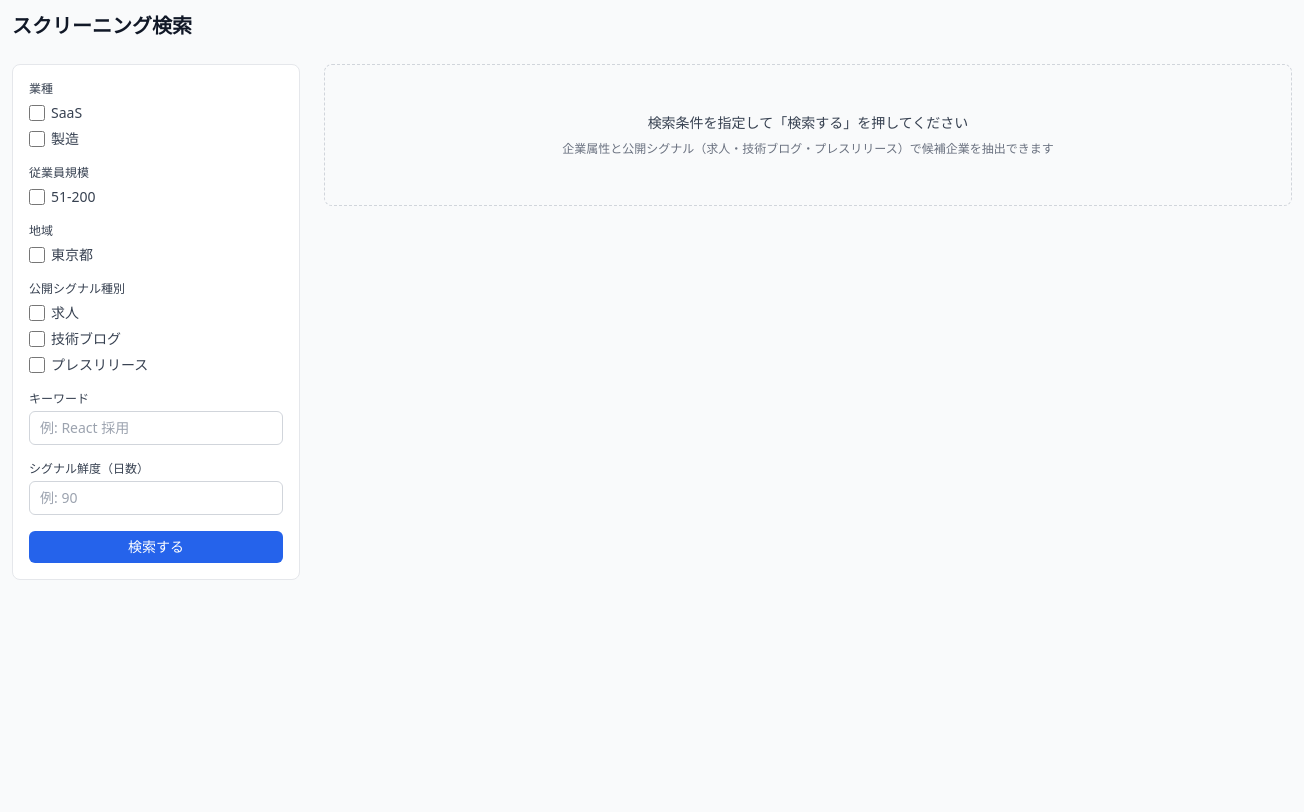
Scenario: ScreeningSearchPage › 検索前は空状態を表示し、検索で条件が POST され結果テーブルが表示される
expect the text "検索条件を指定して「検索する」を押してください" is shown: met, box [648,113,968,133]
Click the checkbox labelled "SaaS" at coordinates (37, 113), box [29,105,45,121]
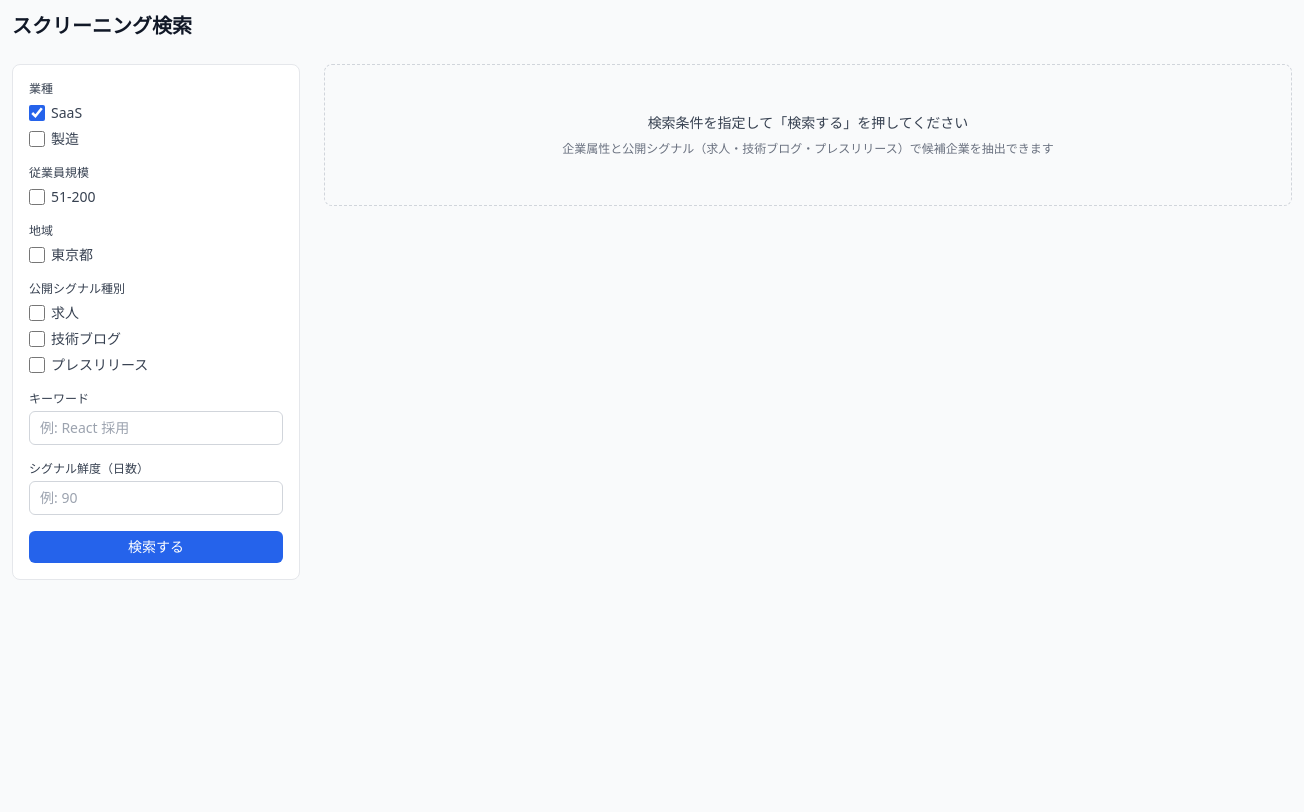
Click the button "検索する" at coordinates (156, 547), box [29,531,283,563]
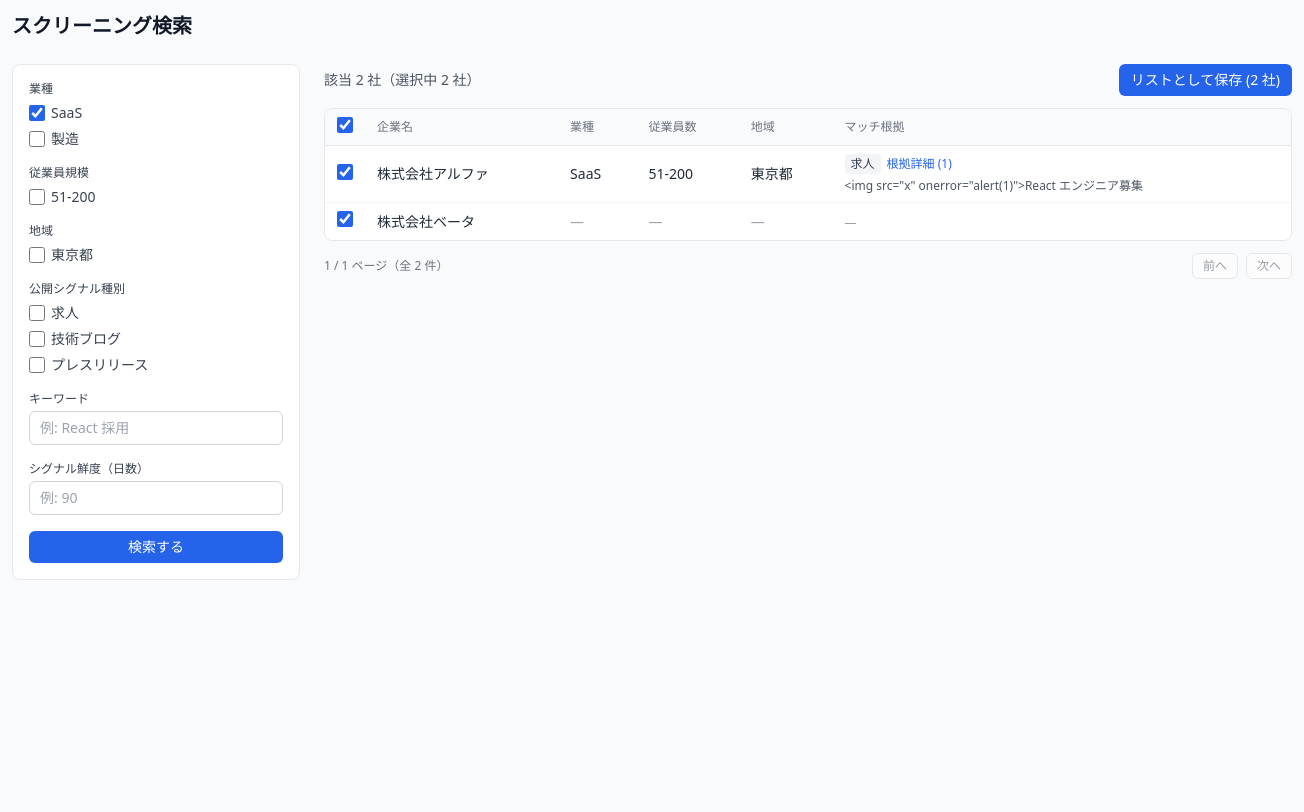
expect the text "株式会社アルファ" is shown: met, box [377,164,489,183]
expect the text "株式会社ベータ" is shown: met, box [377,212,475,230]
expect the text "該当 2 社（選択中 2 社）" is shown: met, box [324,70,481,90]
